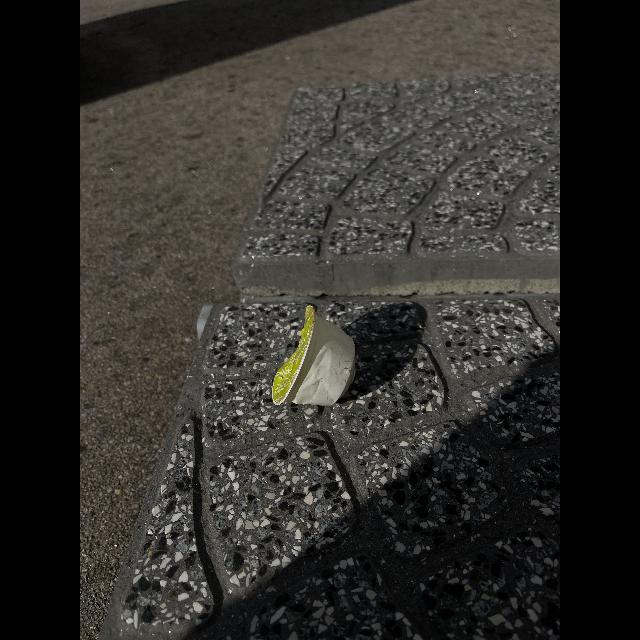damaged_capsule: (264, 300, 390, 418)
